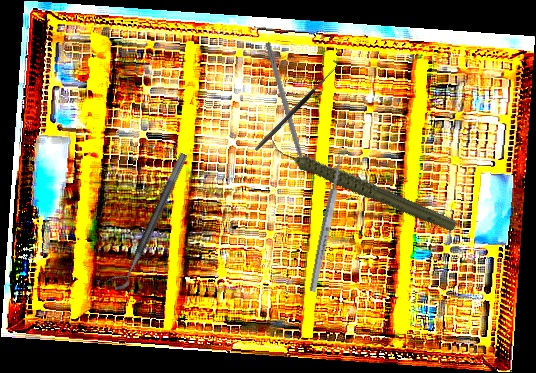Chopper: (257, 41, 310, 182)
Fixation Ring: (105, 147, 189, 294)
Handpiece: (266, 101, 461, 268)
Hook Surgical: (250, 58, 341, 153)
Surgical Spoon: (307, 146, 349, 293)
